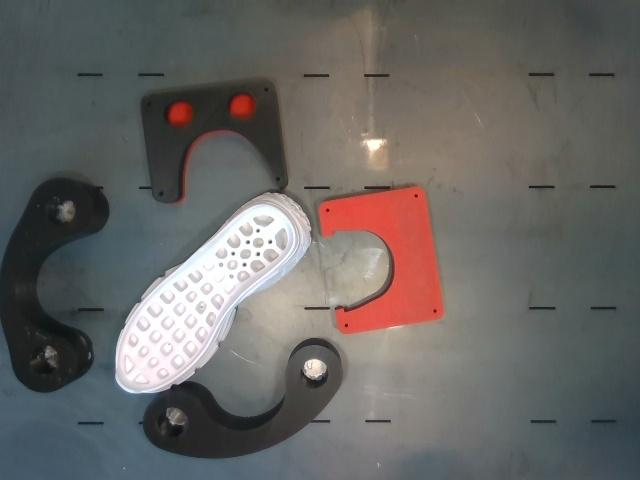shoes: (116, 202, 301, 392)
